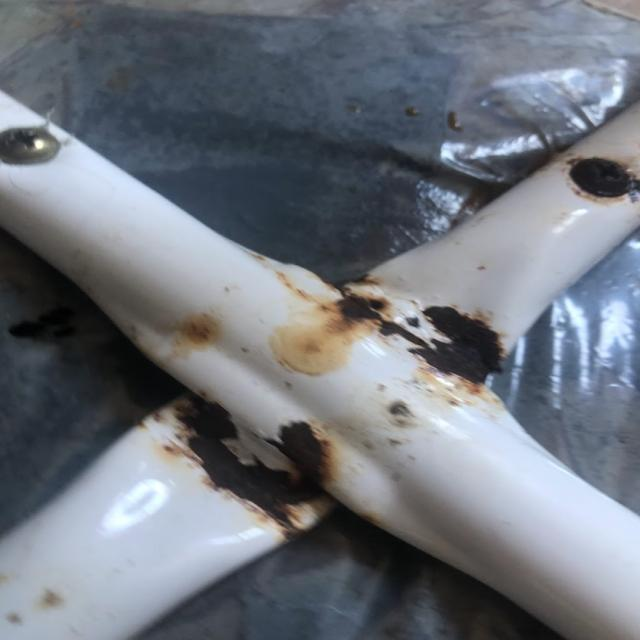Corrosion: (141, 392, 345, 536), (327, 267, 507, 397), (568, 153, 640, 199)
